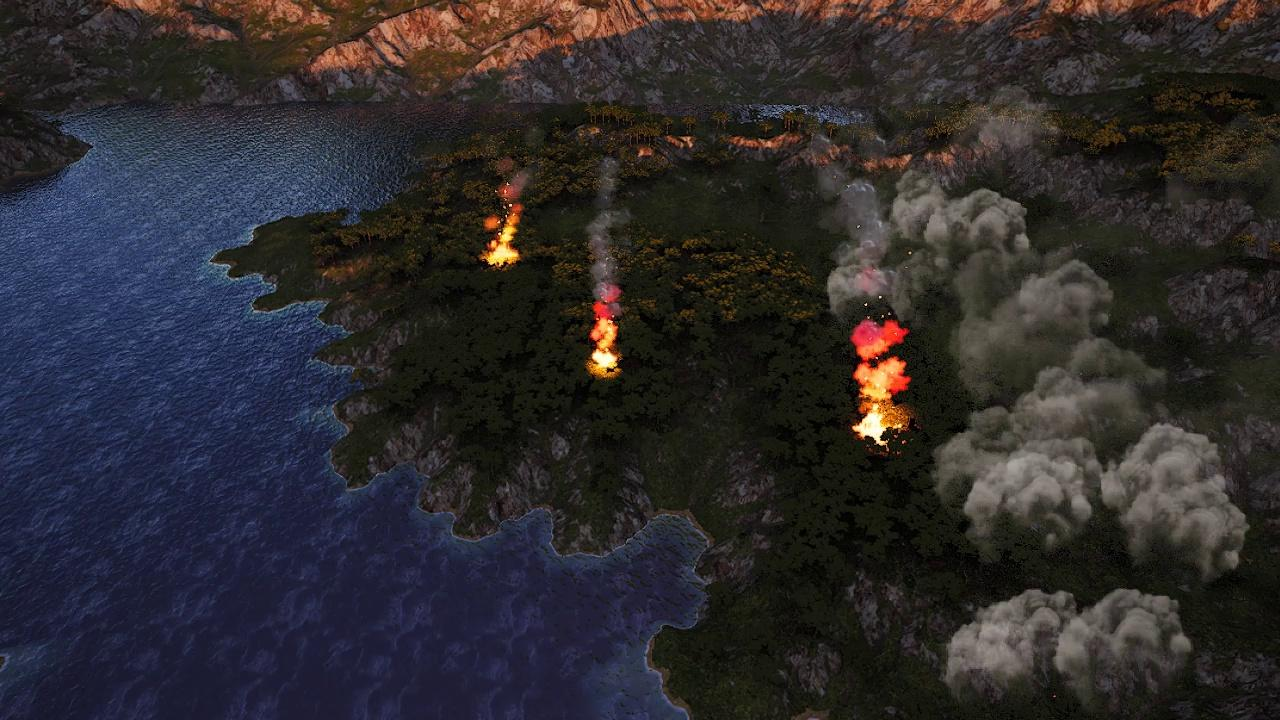fire: (846, 320, 911, 442), (582, 308, 619, 374), (483, 210, 523, 265)
smoke: (900, 190, 1257, 585), (935, 590, 1203, 700), (819, 161, 899, 321), (584, 157, 627, 309)
